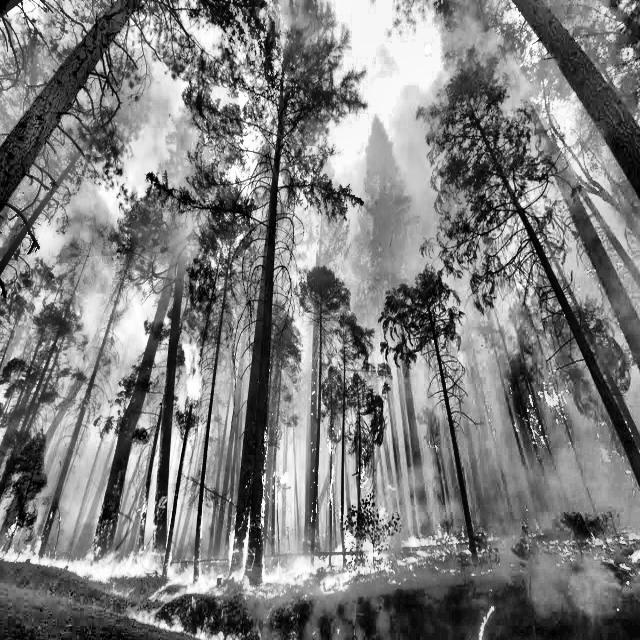fire: (1, 43, 640, 639), (16, 530, 636, 635), (525, 358, 599, 476)
